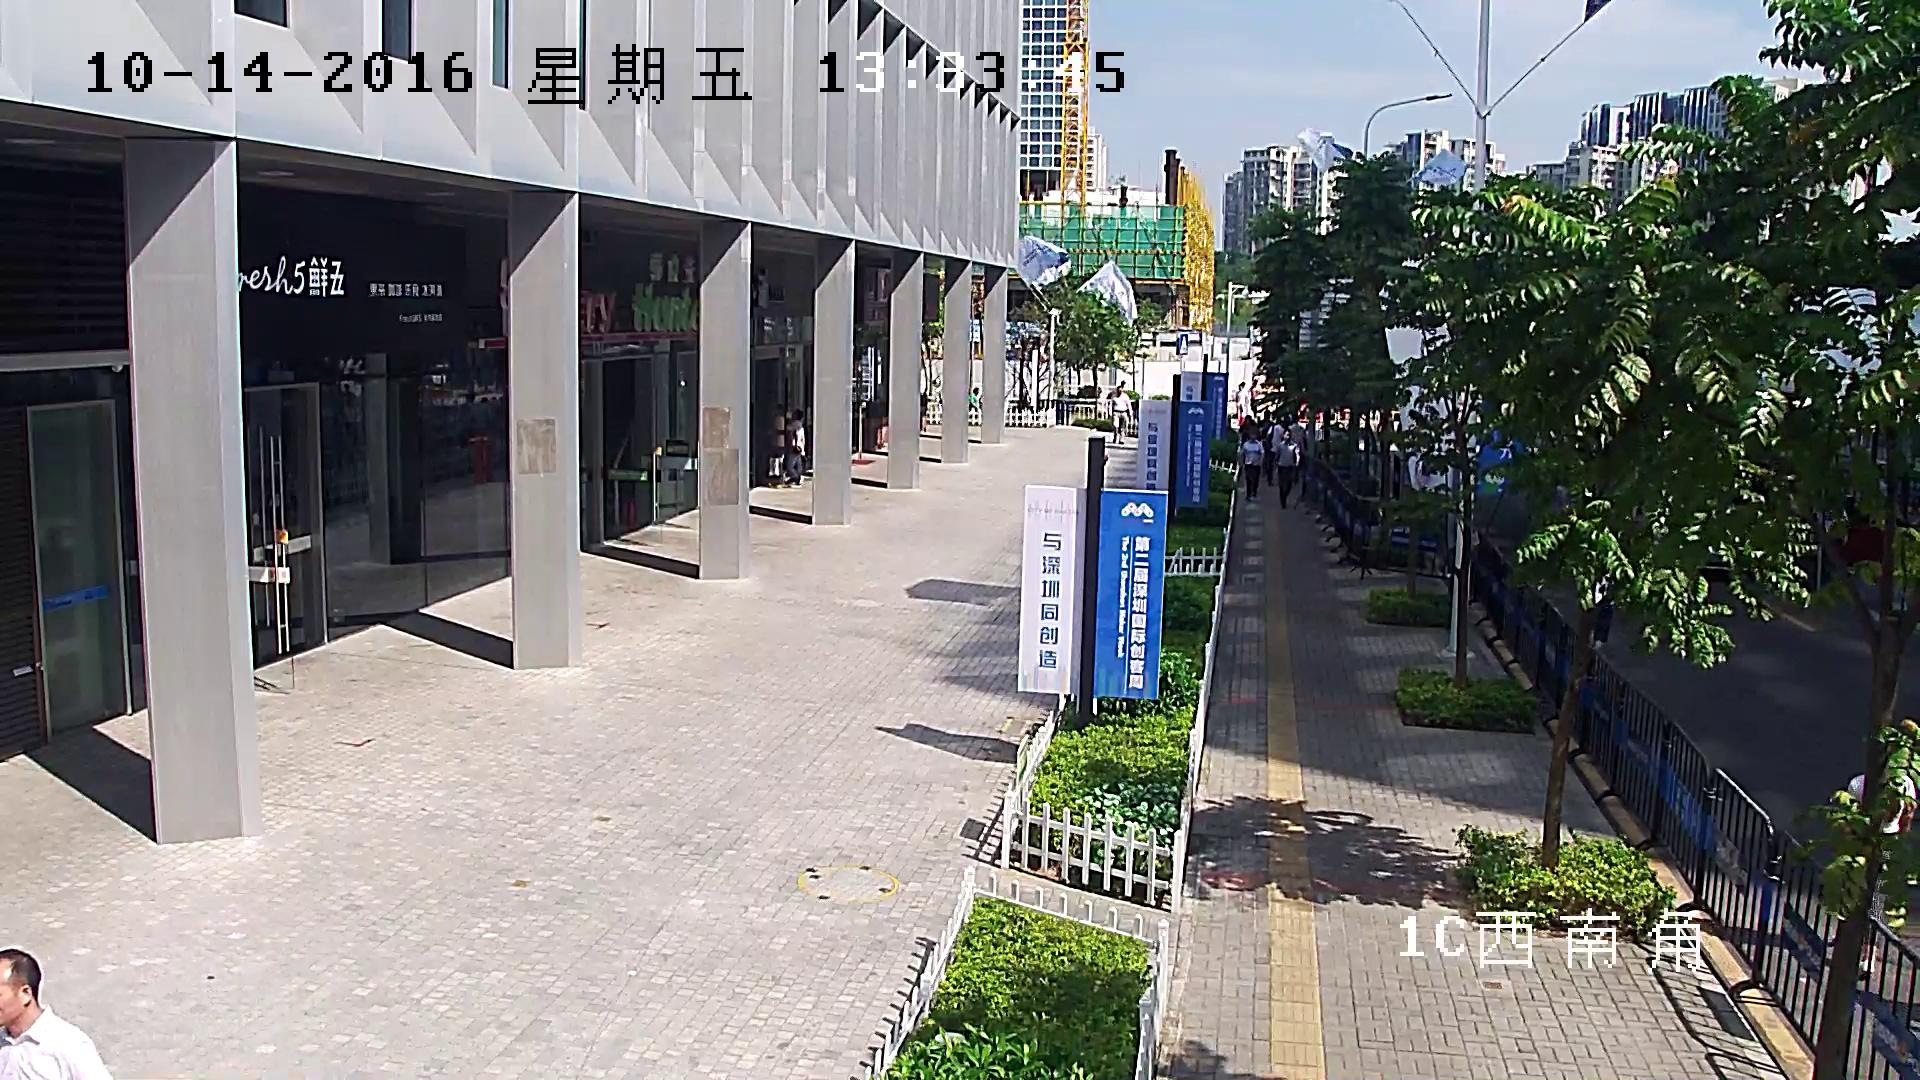person: (0, 948, 115, 1080), (1847, 771, 1916, 974), (1274, 429, 1300, 510), (1238, 429, 1264, 502), (765, 403, 785, 486), (786, 408, 805, 487), (1111, 386, 1132, 444), (1266, 424, 1284, 486), (1258, 410, 1273, 476), (1234, 382, 1249, 426), (968, 386, 981, 426), (1287, 421, 1306, 447)
